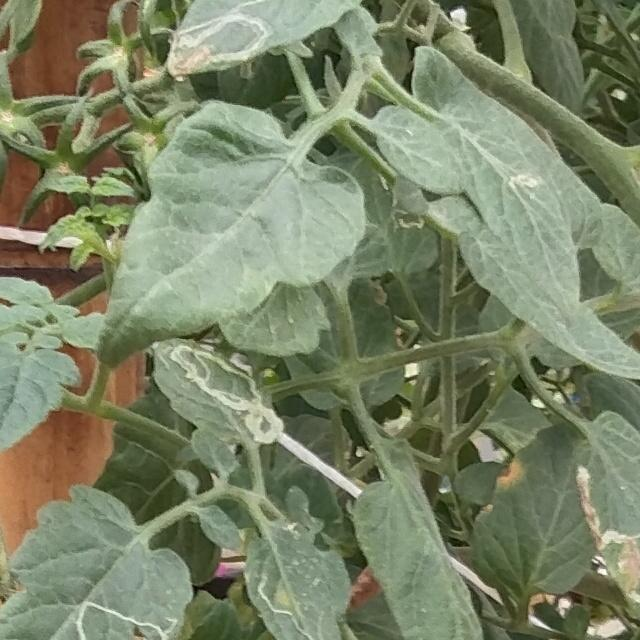Early Blight: (469, 418, 594, 596)
Healthy: (97, 97, 368, 362), (352, 434, 486, 640)
Leaf_Miner: (410, 44, 640, 386), (0, 476, 200, 640), (162, 0, 370, 80), (150, 332, 284, 451), (240, 512, 355, 640), (570, 406, 640, 614)
